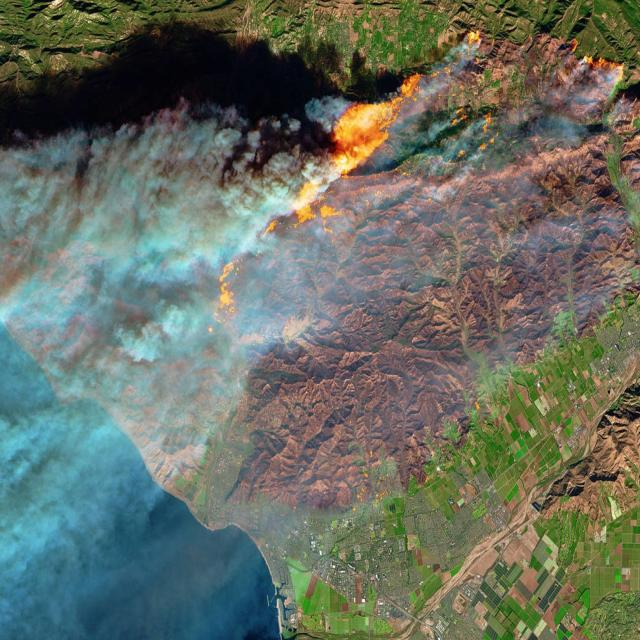Fire: (284, 78, 409, 242)
